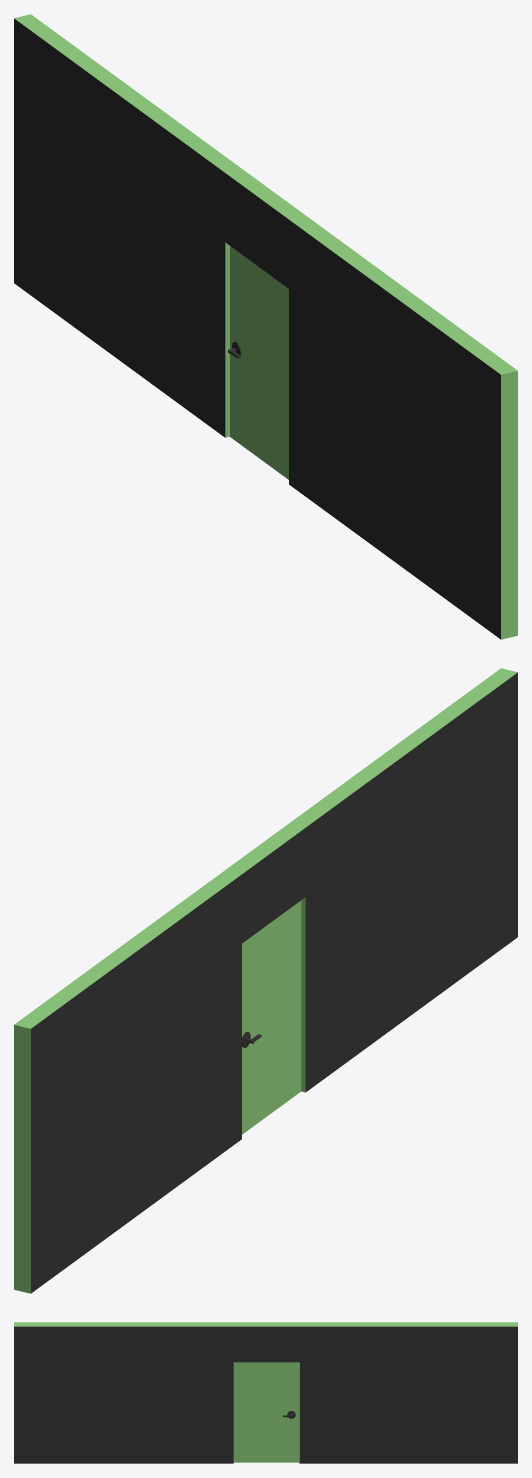
The model's file is Wall_10m_3m_door_inside.fbx.
3 views of the same model, one above another, from view 1: azimuth 30°, elevation 25°; view 2: azimuth 150°, elevation 25°; view 3: azimuth 270°, elevation 25° (orthographic). The views are drawn at different scales.
Parts seen in each view (by area): view 1: Wall_10m_3m_door, Door; view 2: Wall_10m_3m_door, Door; view 3: Wall_10m_3m_door, Door.
Boxes of the visible parts, x1,y1,x2,y2 form: Wall_10m_3m_door: (14,14,517,639); Door: (228,246,288,479); Wall_10m_3m_door: (14,668,517,1293); Door: (242,900,301,1134); Wall_10m_3m_door: (14,1322,517,1463); Door: (233,1362,298,1462).
Bounding box in the file's own units: 31.19 × 300 × 1000.
